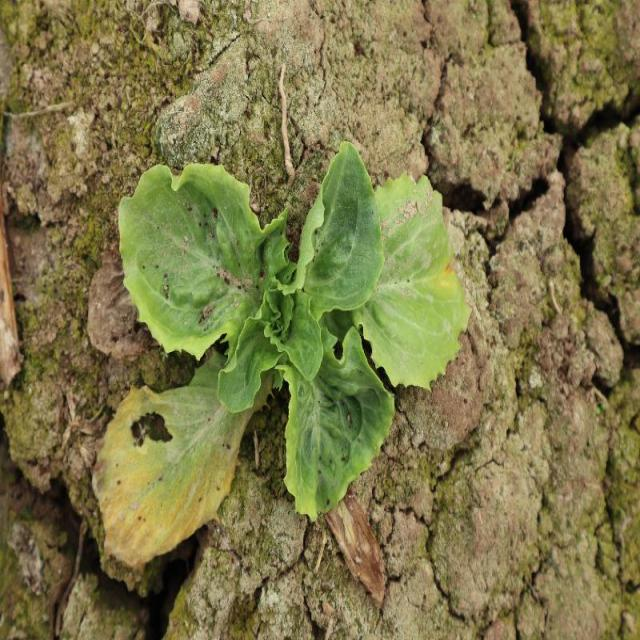crop: (118, 153, 473, 516)
